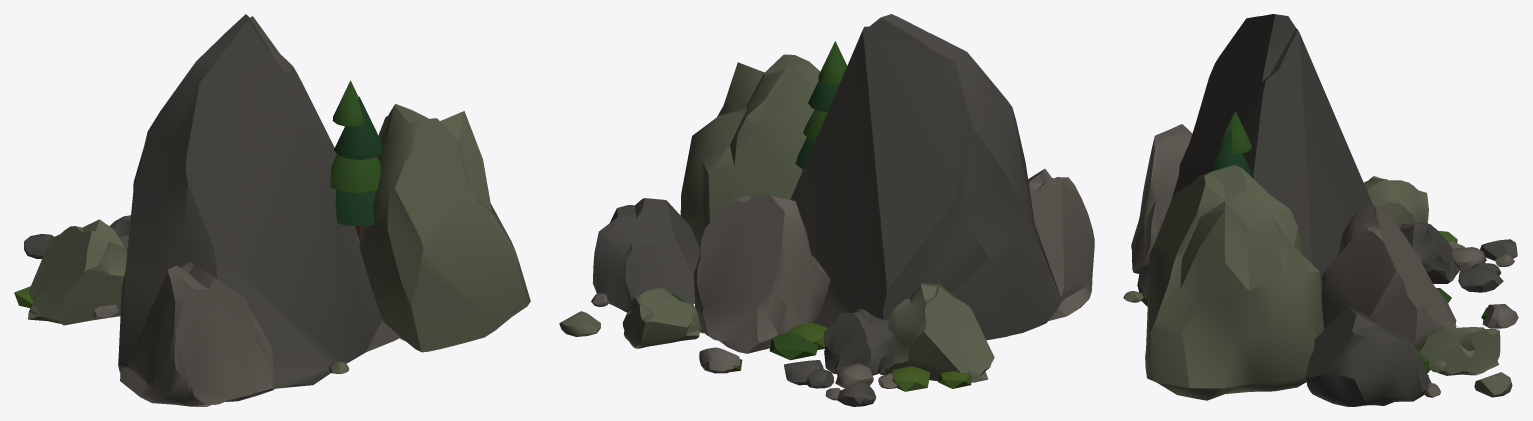
3 views of the same model, side by side, from view 1: azimuth 30°, elevation 25°; view 2: azimuth 150°, elevation 25°; view 3: azimuth 270°, elevation 25° (orthographic). The views are drawn at different scales.
Visible parts, largest first — view 1: bk1; view 2: bk1; view 3: bk1.
Part boxes in pixels (x1=…): bk1: x1=14, y1=14, x2=530, y2=406; bk1: x1=559, y1=14, x2=1094, y2=406; bk1: x1=1123, y1=14, x2=1518, y2=406.
Size of the model in its own units: 8.97 by 6.37 by 7.87.
